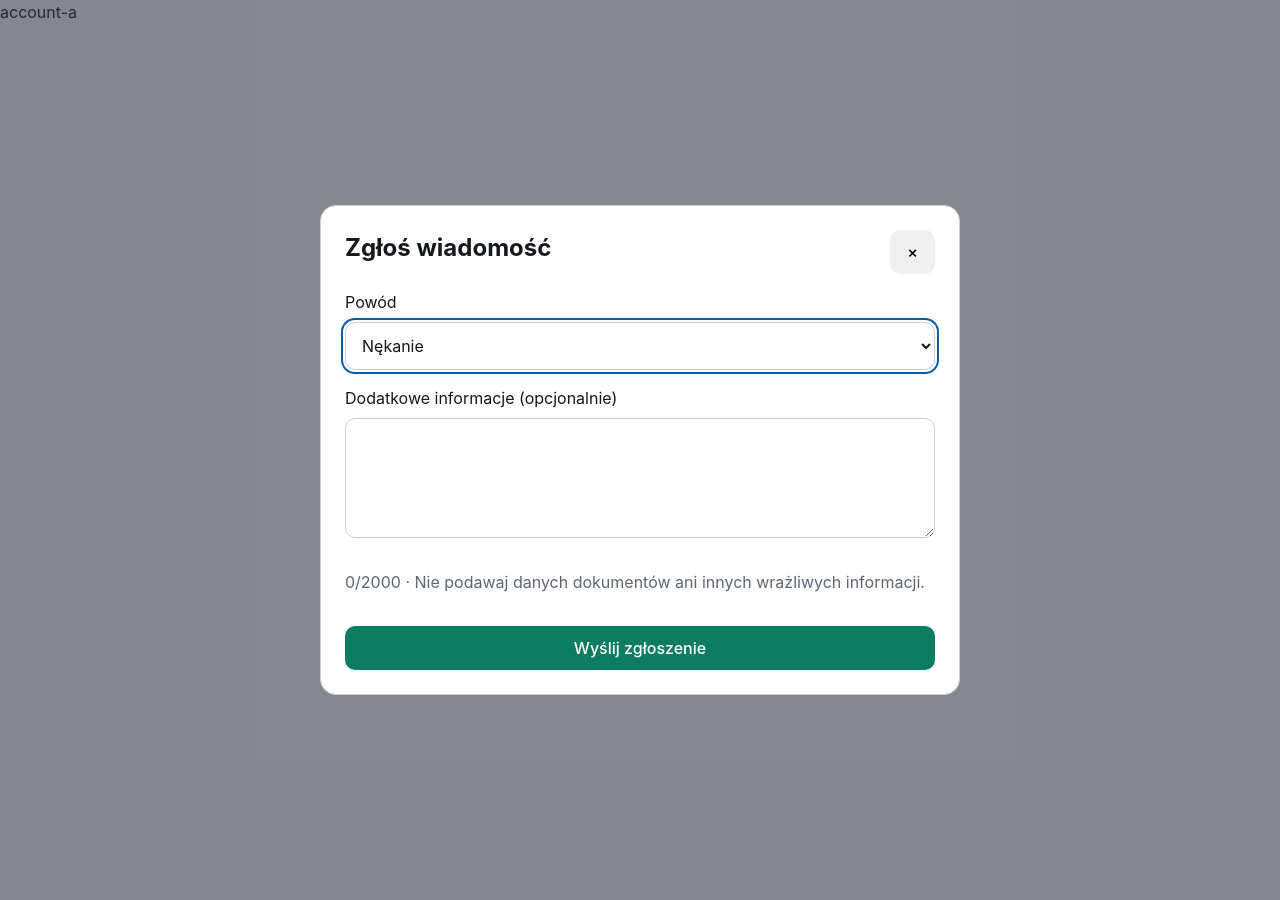
Test: control: unverified current-account participant can submit report
This screenshot has width=1280, height=900.
Check: the text named "identity" reads "account-a", box [0, 2, 77, 22]
Step 1. Click the button "Wyślij zgłoszenie" → (640, 648), box [345, 626, 935, 670]
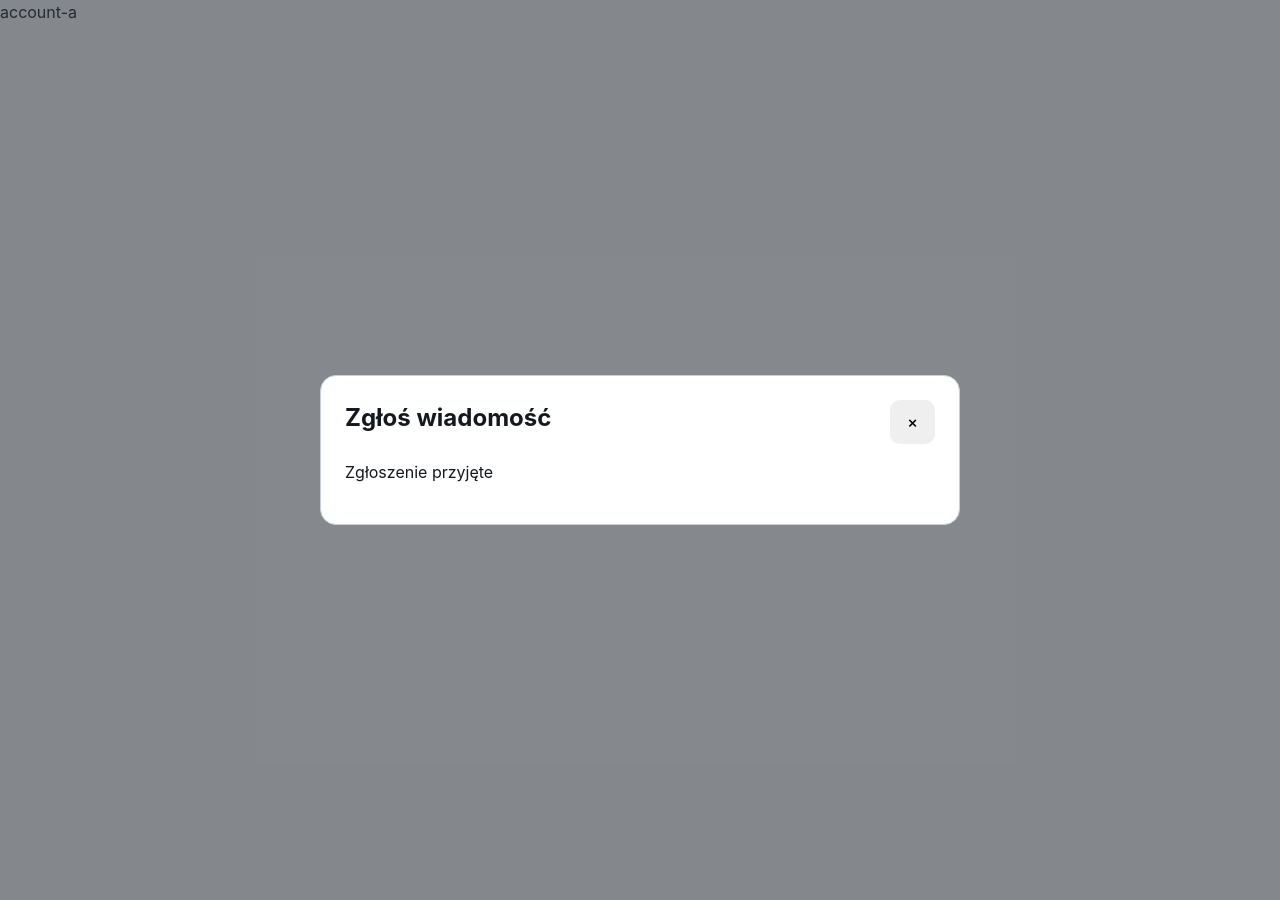
Check: the text "Zgłoszenie przyjęte" is shown, box [345, 462, 493, 482]
